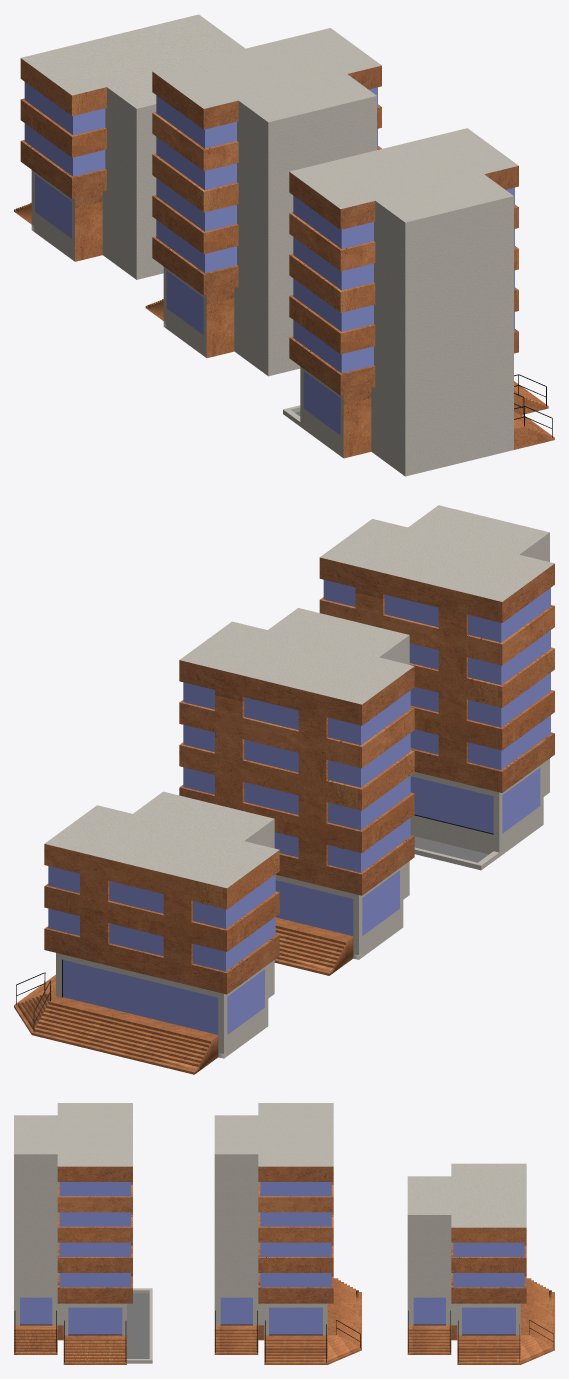
The model's file is Build.fbx.
3 views of the same model, one above another, from view 1: azimuth 30°, elevation 25°; view 2: azimuth 150°, elevation 25°; view 3: azimuth 270°, elevation 25° (orthographic). The views are drawn at different scales.
Parts seen in each view (by area): view 1: polySurface1.001, polySurface1.007, polySurface1.002; view 2: polySurface1.007, polySurface1.002, polySurface1.001; view 3: polySurface1.007, polySurface1.001, polySurface1.002.
Boxes of the visible parts, x1=… form: polySurface1.001: x1=283, y1=128, x2=554, y2=476; polySurface1.007: x1=145, y1=28, x2=381, y2=376; polySurface1.002: x1=14, y1=14, x2=244, y2=279; polySurface1.007: x1=179, y1=608, x2=414, y2=975; polySurface1.002: x1=14, y1=791, x2=279, y2=1074; polySurface1.001: x1=319, y1=505, x2=554, y2=870; polySurface1.007: x1=214, y1=1103, x2=361, y2=1364; polySurface1.001: x1=14, y1=1103, x2=152, y2=1364; polySurface1.002: x1=407, y1=1163, x2=554, y2=1364.
Size of the model in its own units: 1189 by 1361 by 3586.
